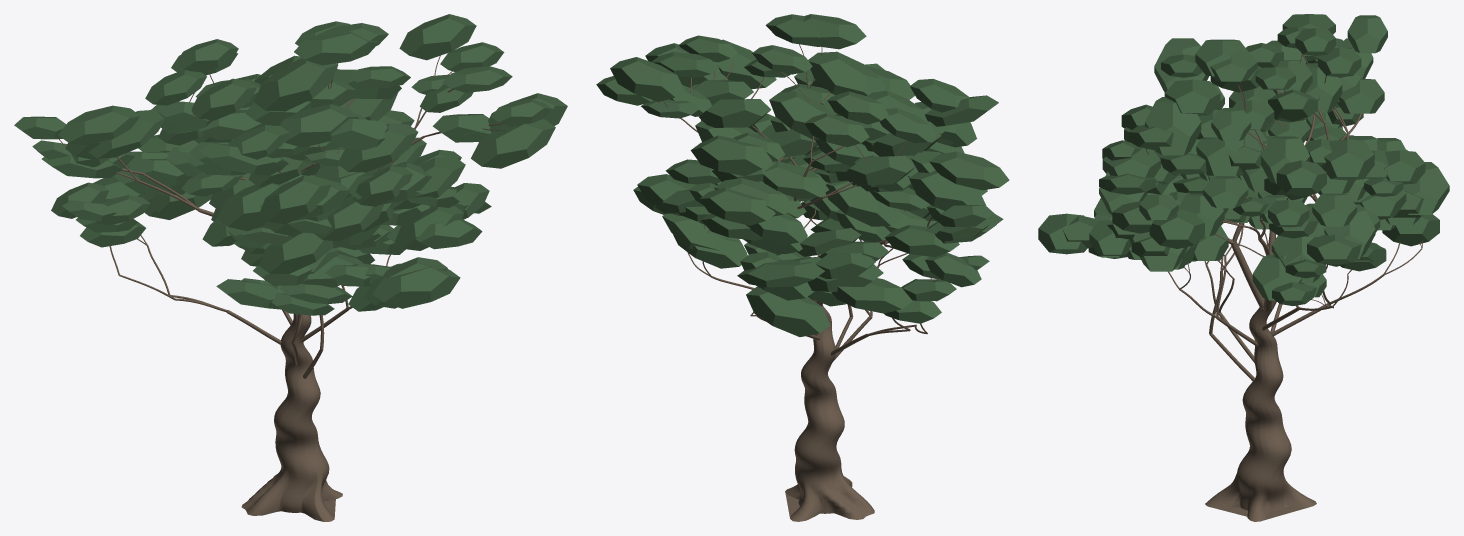
File: tree_2026-04-26T08-50-19-040Z.glb
3 views of the same model, side by side, from view 1: azimuth 30°, elevation 25°; view 2: azimuth 150°, elevation 25°; view 3: azimuth 270°, elevation 25° (orthographic). The views are drawn at different scales.
Visible parts, largest first — view 1: rainforest_giant; view 2: rainforest_giant; view 3: rainforest_giant.
Part boxes in pixels (box(x1,y1,x2,y2)): rainforest_giant: box(14, 14, 567, 521); rainforest_giant: box(596, 14, 1009, 521); rainforest_giant: box(1038, 14, 1449, 521).
Bounding box in the file's own units: 166 × 168 × 135.
